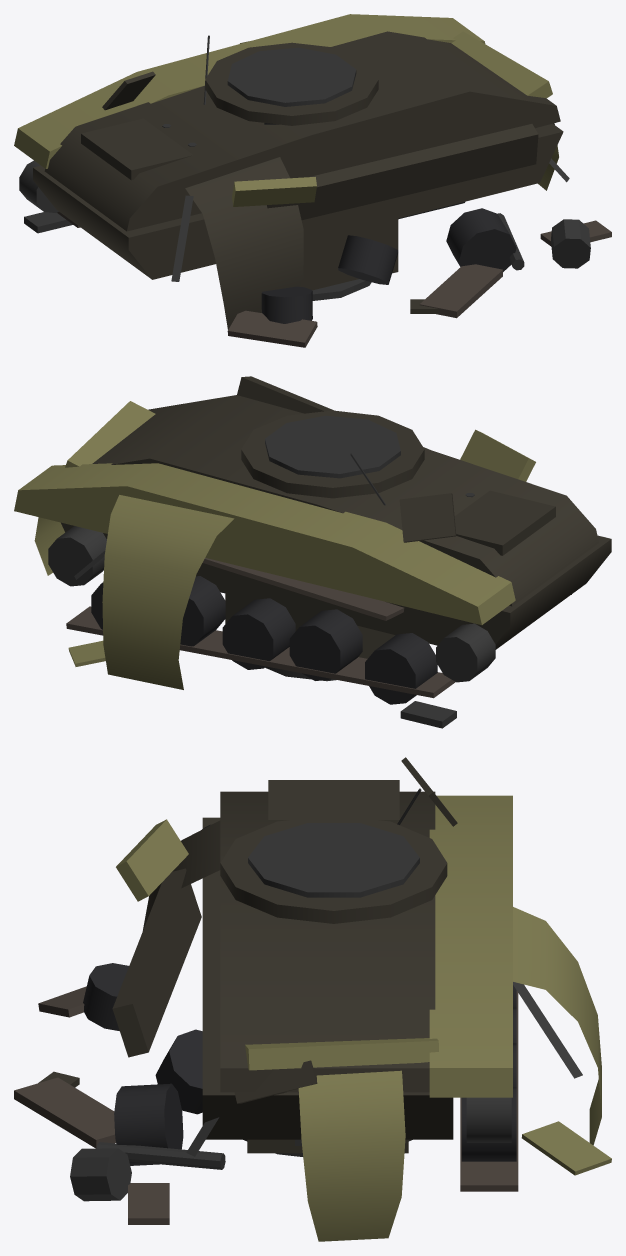
File: sherman_destroyed.glb
3 renders of one model, top to bottom at view 1: azimuth 30°, elevation 25°; view 2: azimuth 150°, elevation 25°; view 3: azimuth 270°, elevation 25°, orthographic. The views are drawn at different scales.
Parts seen in each view (by area): view 1: Sherman_Destroyed, Sherman_Destroyed_Turret; view 2: Sherman_Destroyed, Sherman_Destroyed_Turret; view 3: Sherman_Destroyed, Sherman_Destroyed_Turret.
Boxes of the visible parts, box(x1,y1,x2,y2) form: Sherman_Destroyed: box(14, 14, 611, 347); Sherman_Destroyed_Turret: box(300, 202, 464, 300); Sherman_Destroyed: box(14, 376, 611, 728); Sherman_Destroyed_Turret: box(220, 591, 395, 681); Sherman_Destroyed: box(14, 757, 611, 1241); Sherman_Destroyed_Turret: box(243, 1139, 412, 1156).
Bounding box in the file's own units: 5.95 × 2.69 × 5.01.
